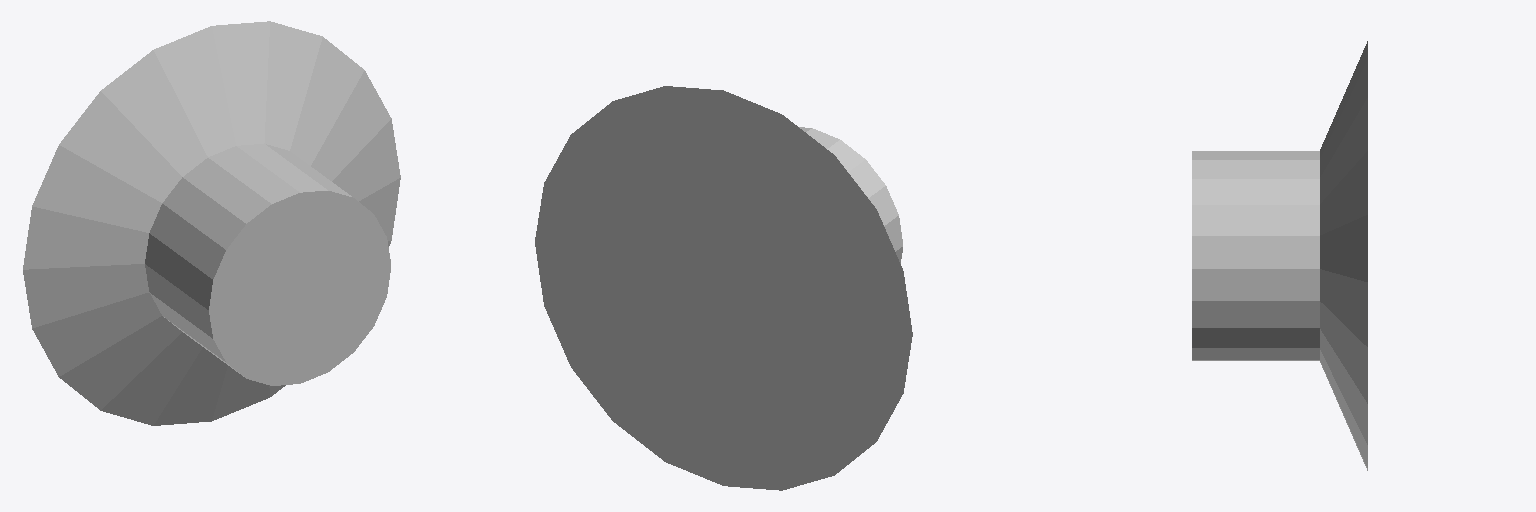
Rendered from Study Knob T.obj.
3 renders of one model, left to right at view 1: azimuth 30°, elevation 25°; view 2: azimuth 150°, elevation 25°; view 3: azimuth 270°, elevation 25°, orthographic.
Parts seen in each view (by area): view 1: pCylinder2; view 2: pCylinder2; view 3: pCylinder2.
Part boxes in pixels (bbox=[...]): pCylinder2: bbox=[23, 21, 400, 425]; pCylinder2: bbox=[535, 86, 912, 490]; pCylinder2: bbox=[1192, 41, 1367, 470].
Size of the model in its own units: 4.14 by 4.14 by 1.67.